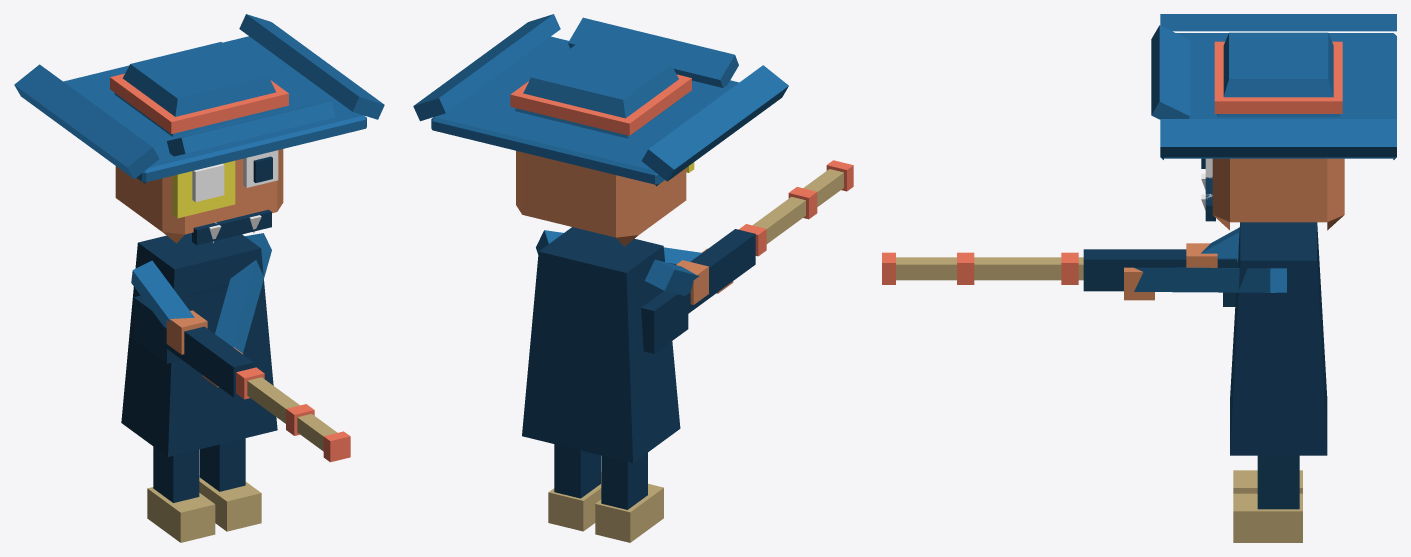
The model's file is sniper_enemy_r15.glb.
3 renders of one model, left to right at view 1: azimuth 30°, elevation 25°; view 2: azimuth 150°, elevation 25°; view 3: azimuth 270°, elevation 25°, orthographic. The views are drawn at different scales.
Parts seen in each view (by area): view 1: sniper_enemy_r15_mesh; view 2: sniper_enemy_r15_mesh; view 3: sniper_enemy_r15_mesh.
Part boxes in pixels (left/top/right/bottom): sniper_enemy_r15_mesh: left=14, top=14, right=384, bottom=542; sniper_enemy_r15_mesh: left=413, top=14, right=853, bottom=542; sniper_enemy_r15_mesh: left=882, top=14, right=1396, bottom=542.
Bounding box in the file's own units: 1.02 × 1.7 × 1.7.
Materials: 1 (1 with a texture image).
